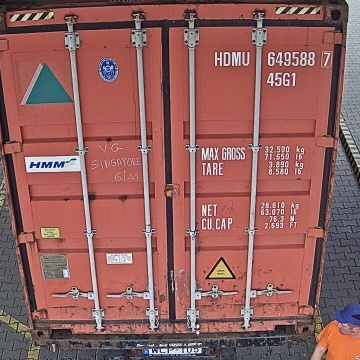serial_id: (215, 50, 332, 66)
